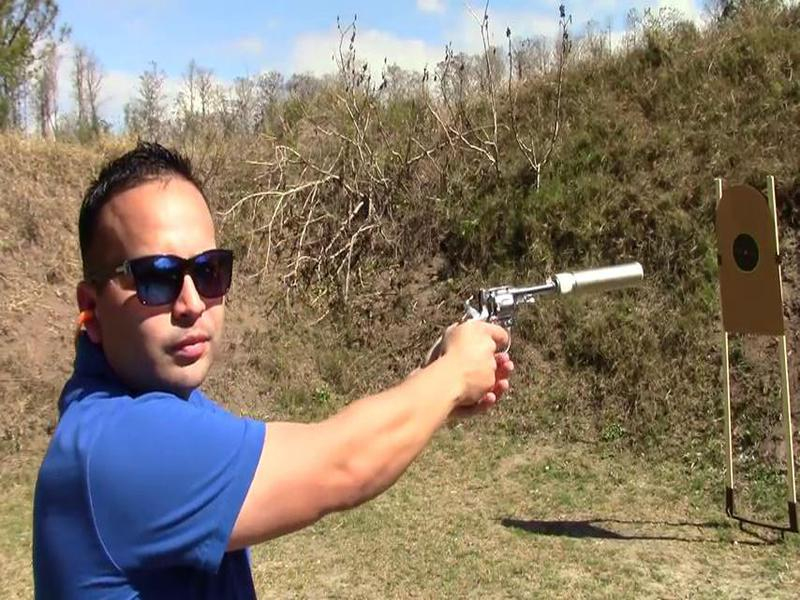Revolver: (446, 250, 576, 357)
